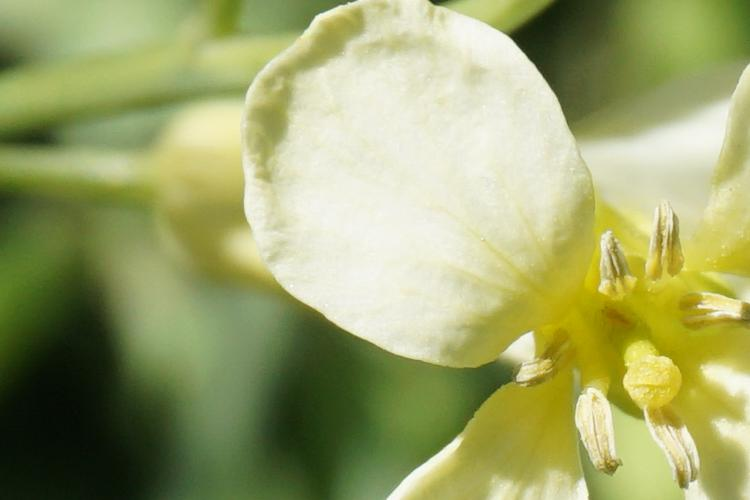white: (254, 33, 749, 495)
